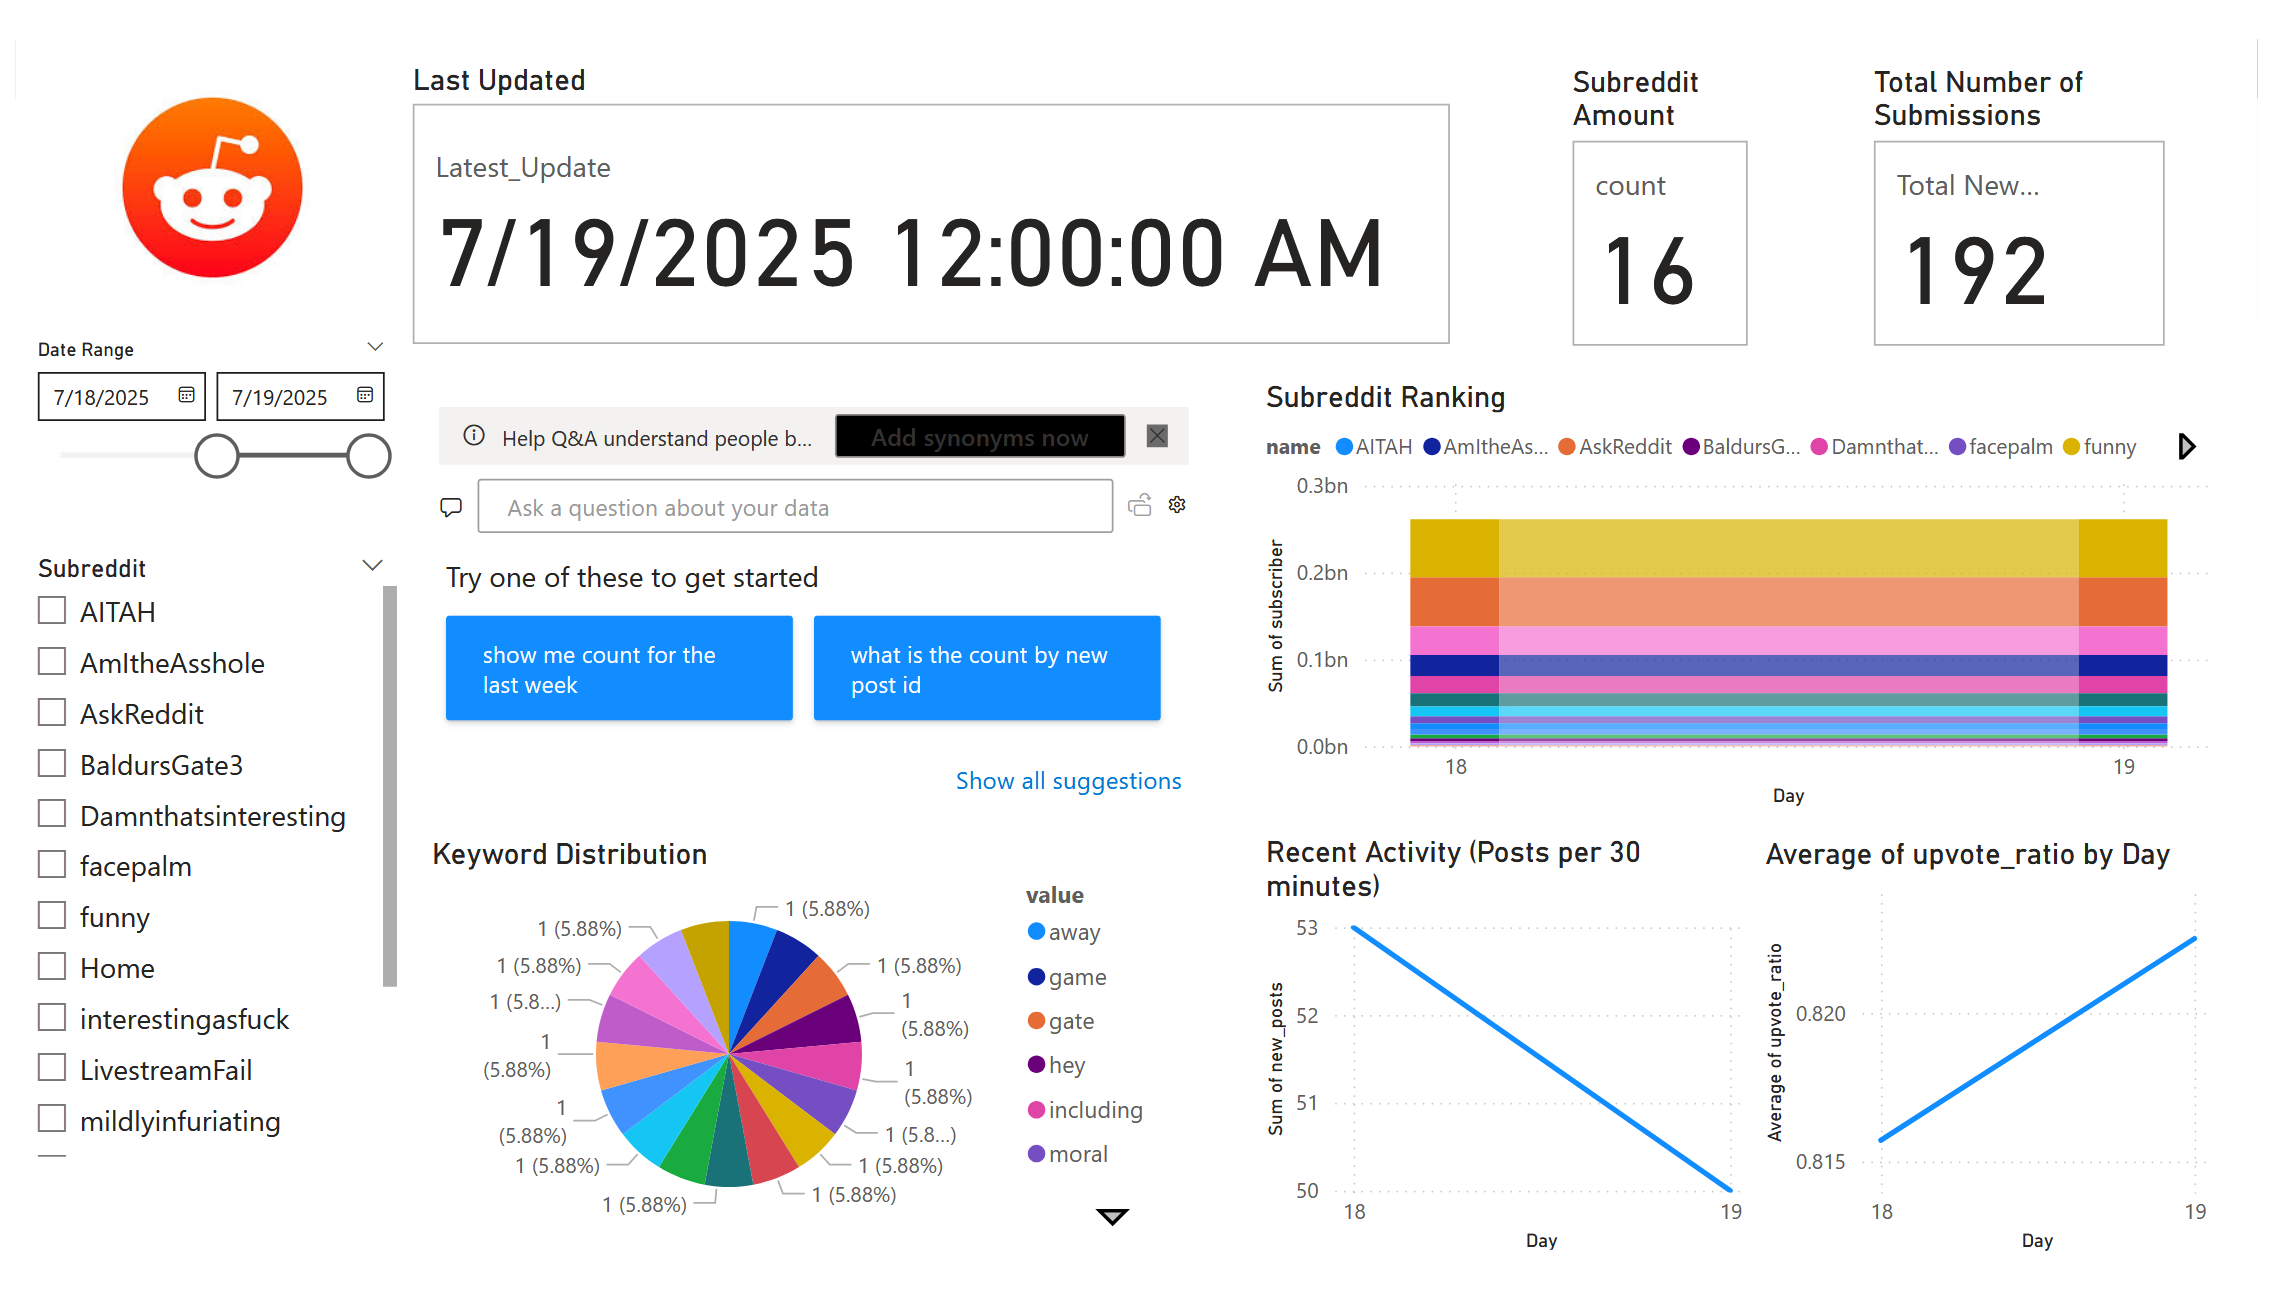

What the dashboard file says about the page in this screenshot:
{"tool":"powerbi","page":{"name":"Subreddit","canvas":[1280,720],"ordinal":0},"visuals":[{"type":"slicer","fields":{"Values":["DateTable.Date"]},"box":[0,166.2,222.5,122.5],"z":0},{"type":"slicer","fields":{"Values":["subreddit.name"]},"box":[0,288.8,222.5,353.8],"z":1000},{"type":"lineChart","title":"Recent Activity (Posts per 30 minutes)","fields":{"Category":["DateTable.Date.Variation.Date Hierarchy.Day"],"Y":["Sum(subreddit_status.new_posts)"]},"box":[709.1,454.2,285,242.2],"z":2000},{"type":"image","box":[21.2,1.2,181.2,166.2],"z":3000},{"type":"ribbonChart","title":"Subreddit Ranking","fields":{"Category":["DateTable.Date.Variation.Date Hierarchy.Day"],"Y":["Sum(subreddit_status.subscriber)"],"Series":["subreddit.name"]},"box":[708.8,193.8,550,248.8],"z":4000},{"type":"cardVisual","title":"Total Number of Submissions","fields":{"Data":["subreddit_status.Total New Submission"]},"box":[1056,13.8,176.2,166],"z":5000},{"type":"cardVisual","title":"Subreddit Amount","fields":{"Data":["subreddit.count"]},"box":[884.5,13.8,109.8,166],"z":6000},{"type":"cardVisual","title":"Last Updated","fields":{"Data":["subreddit_status.Latest_Update"]},"box":[222.3,12.9,601.3,166.9],"z":7000},{"type":"qnaVisual","box":[232.9,197,446.1,258.4],"z":8000},{"type":"pieChart","title":"Keyword Distribution","fields":{"Y":["CountNonNull(subreddit_keyword.value)"],"Category":["subreddit_keyword.value"]},"box":[232.9,455.4,446.1,229.4],"z":9000},{"type":"lineChart","fields":{"Category":["DateTable.Date.Variation.Date Hierarchy.Day"],"Y":["Avg(submission_status.upvote_ratio)"]},"box":[994,455,265,242],"z":10000}]}

Visuals, with their boxes in screenshot pixels (x1, y1, x2, y2), scaled from the page's 1280x720 canvas onto the 2281x1308 screenshot:
slicer - DateTable.Date: select_region(0, 302, 397, 524)
slicer - subreddit.name: select_region(0, 525, 397, 1167)
"Recent Activity (Posts per 30 minutes)" lineChart: select_region(1264, 825, 1772, 1265)
image: select_region(38, 2, 361, 304)
"Subreddit Ranking" ribbonChart: select_region(1263, 352, 2243, 804)
"Total Number of Submissions" cardVisual: select_region(1882, 25, 2196, 327)
"Subreddit Amount" cardVisual: select_region(1576, 25, 1772, 327)
"Last Updated" cardVisual: select_region(396, 23, 1468, 327)
qnaVisual: select_region(415, 358, 1210, 827)
"Keyword Distribution" pieChart: select_region(415, 827, 1210, 1244)
lineChart - DateTable.Date.Variation.Date Hierarchy.Day x Avg(submission_status.upvote_ratio): select_region(1771, 827, 2244, 1266)
